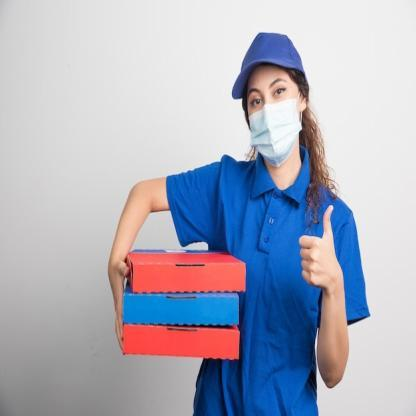thumb_up: (296, 202, 340, 292)
